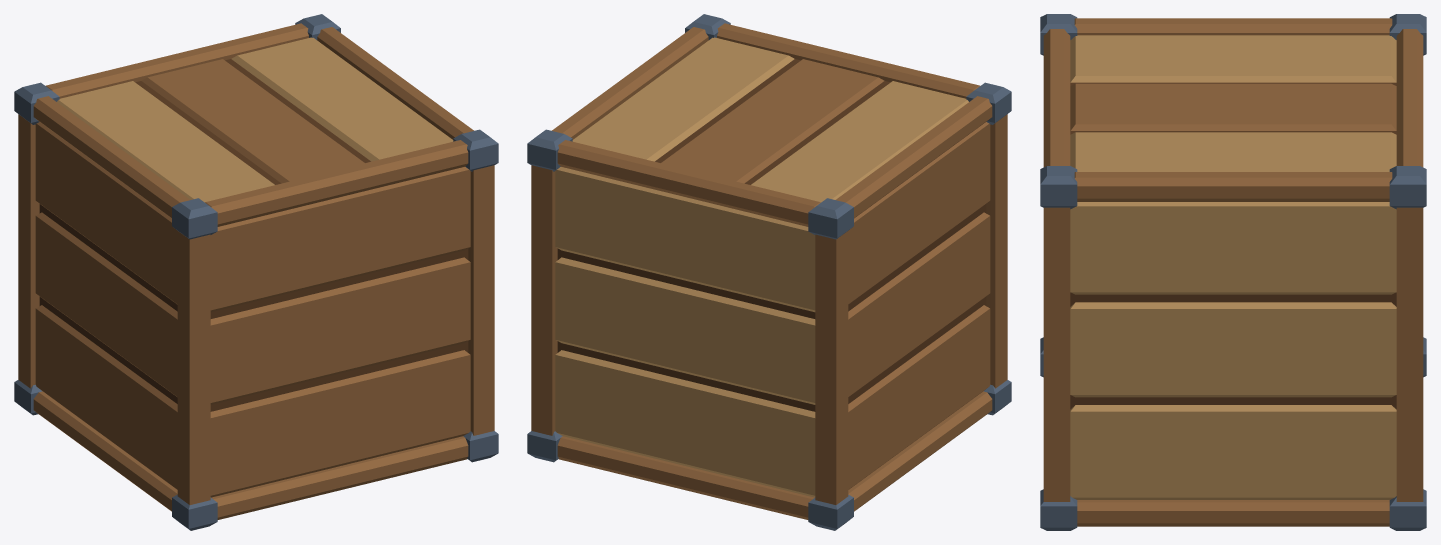
Rendered from Crate_07.glb.
3 renders of one model, left to right at view 1: azimuth 30°, elevation 25°; view 2: azimuth 150°, elevation 25°; view 3: azimuth 270°, elevation 25°, orthographic. The views are drawn at different scales.
Visible parts, largest first — view 1: Crate_07; view 2: Crate_07; view 3: Crate_07.
Boxes of the visible parts, <box> form: Crate_07: <box>14,14,498,530</box>; Crate_07: <box>527,14,1011,530</box>; Crate_07: <box>1040,14,1426,530</box>.
Size of the model in its own units: 2.36 by 2.33 by 2.3.
